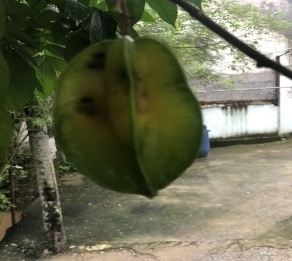Khe: (51, 31, 209, 204)
